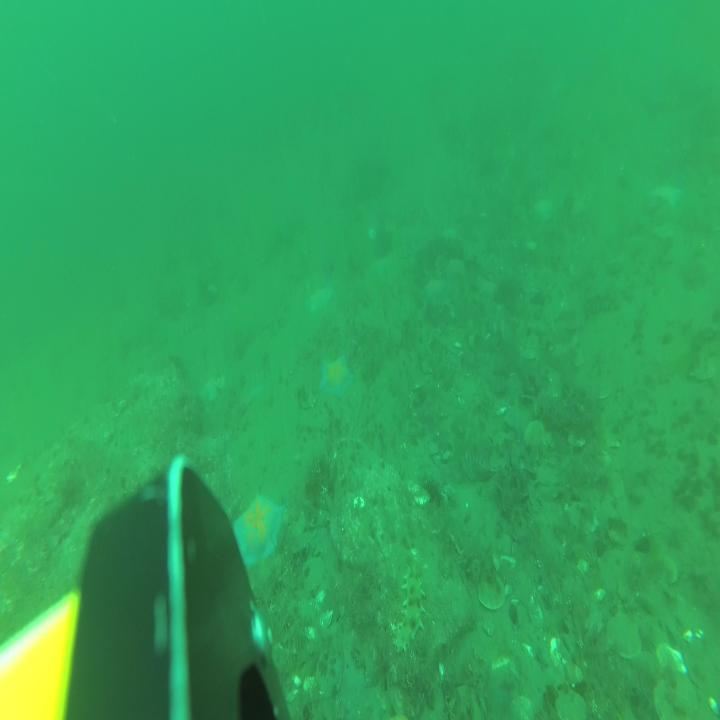echinus: (416, 470, 442, 519)
holothurian: (390, 570, 424, 652), (584, 291, 620, 317)
scallop: (600, 544, 637, 601), (606, 610, 642, 662), (654, 677, 696, 720), (490, 654, 520, 690), (478, 572, 505, 610), (554, 688, 586, 720), (654, 553, 678, 595), (570, 498, 596, 533), (524, 420, 548, 454), (510, 692, 532, 720)
starfish: (231, 490, 283, 572), (320, 350, 353, 394), (649, 185, 682, 212), (306, 286, 334, 317), (421, 277, 449, 307), (244, 377, 268, 412), (201, 372, 224, 403), (533, 197, 552, 228)
